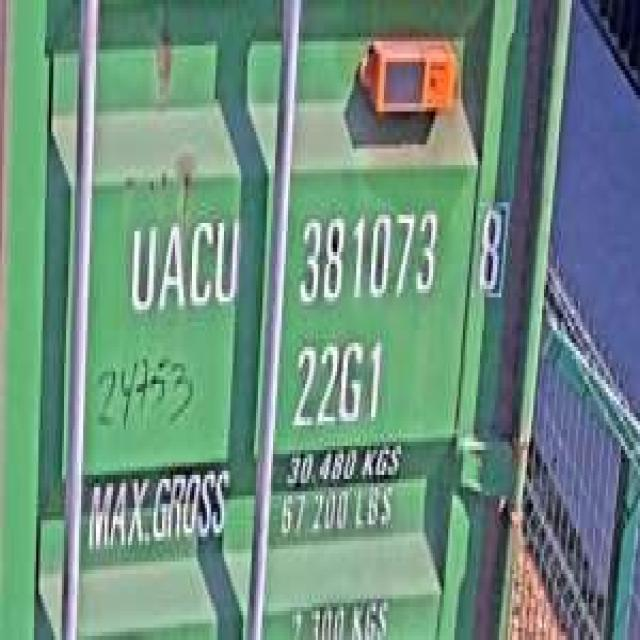dv: (471, 186, 510, 301)
owner: (124, 202, 241, 322)
serial: (292, 194, 440, 310)
size: (288, 330, 384, 430)
